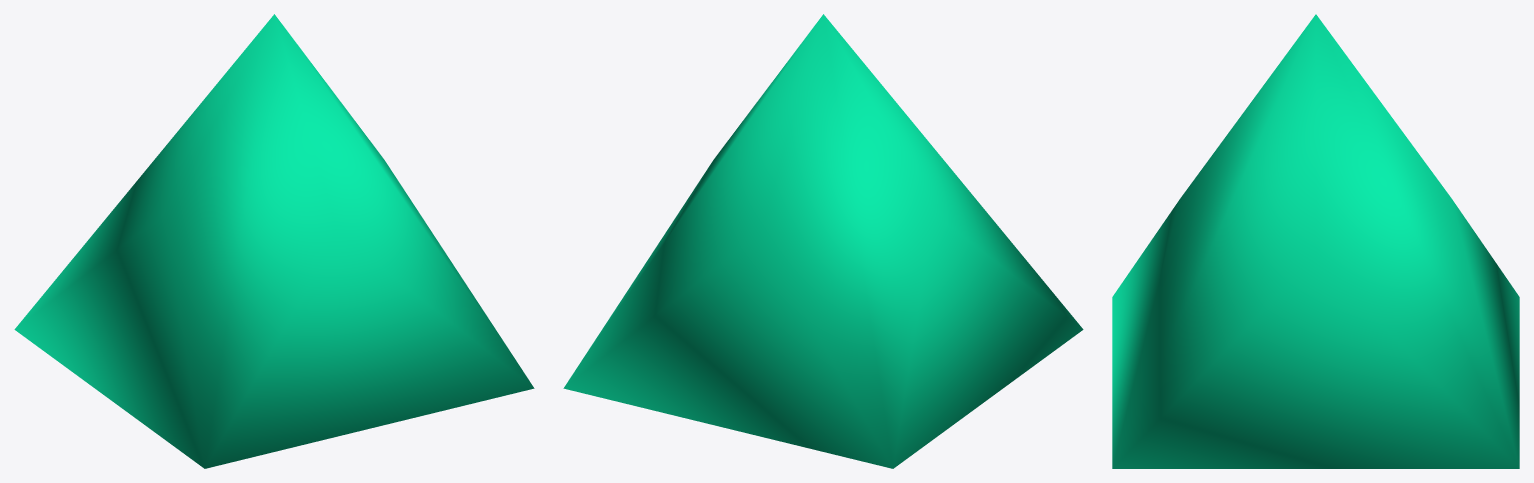
File: rock10.glb
The picture shows the model from 3 angles, left to right: view 1: azimuth 30°, elevation 25°; view 2: azimuth 150°, elevation 25°; view 3: azimuth 270°, elevation 25°; orthographic projection. The views are drawn at different scales.
Parts seen in each view (by area): view 1: rock; view 2: rock; view 3: rock.
Part boxes in pixels (box(x1,y1,x2,y2)): rock: box(14, 14, 534, 468); rock: box(563, 14, 1083, 468); rock: box(1112, 14, 1519, 468).
Size of the model in its own units: 1 by 1 by 1.
